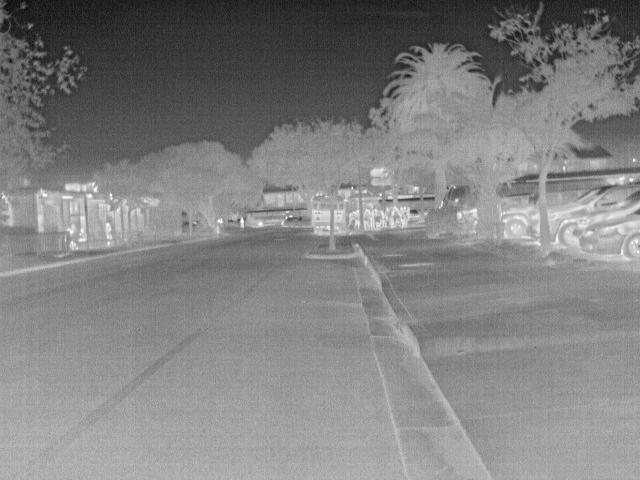car: (545, 182, 639, 247), (579, 206, 639, 264), (500, 205, 538, 241), (454, 206, 477, 232)
person: (102, 220, 115, 250), (65, 223, 79, 249), (76, 227, 89, 242), (237, 214, 246, 228)
